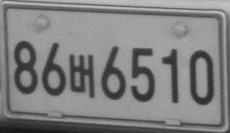0: (188, 48, 215, 106)
1: (159, 48, 185, 103)
5: (130, 47, 156, 102)
6: (40, 42, 66, 97), (100, 46, 126, 100)
8: (12, 39, 39, 95)
버: (68, 54, 95, 98)
